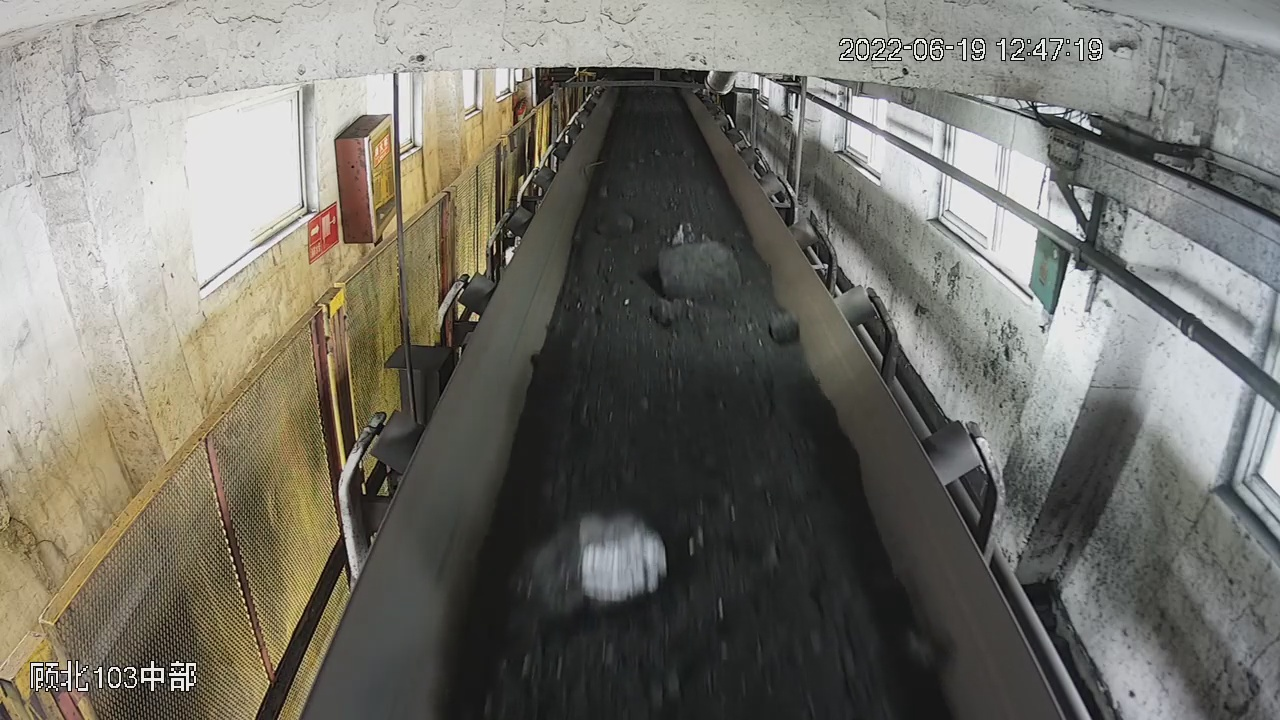gangue: (528, 514, 666, 616), (658, 221, 741, 299), (905, 630, 944, 674), (649, 296, 694, 322), (771, 304, 797, 344), (595, 212, 632, 234)
